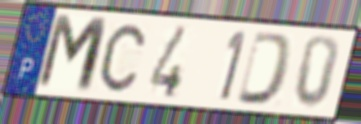0: (292, 34, 342, 112)
1: (218, 29, 248, 105)
4: (146, 23, 187, 101)
C: (97, 22, 147, 95)
D: (233, 30, 296, 108)
M: (33, 12, 112, 97)
